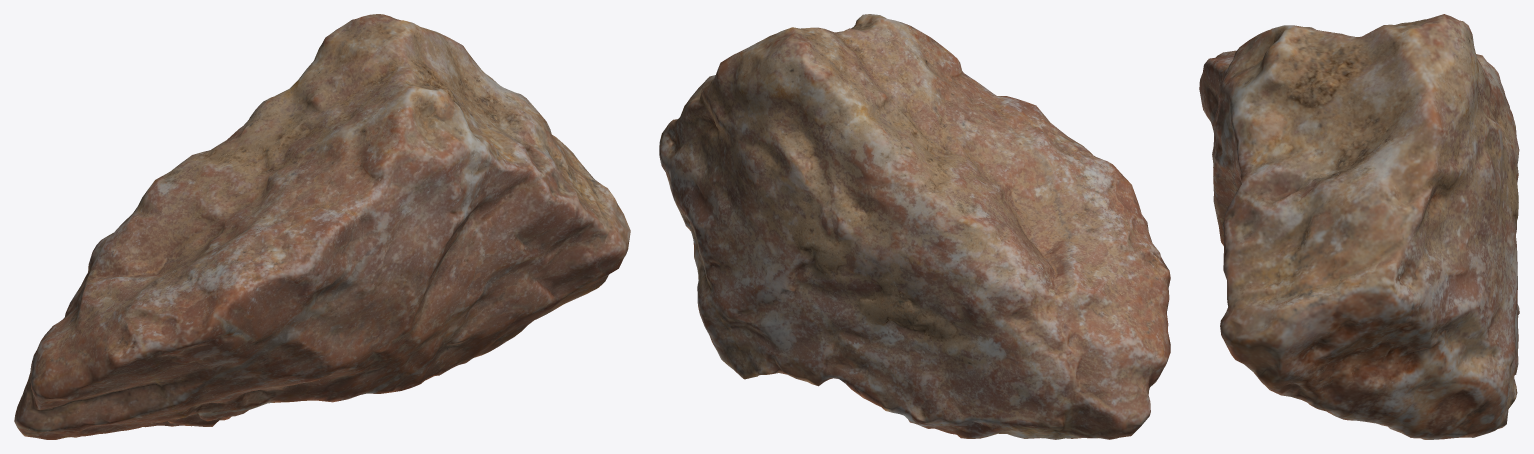
Rendered from sasso14.obj.
3 views of the same model, side by side, from view 1: azimuth 30°, elevation 25°; view 2: azimuth 150°, elevation 25°; view 3: azimuth 270°, elevation 25° (orthographic). The views are drawn at different scales.
Size of the model in its own units: 1.07 by 0.6798 by 0.4812.
Materials: 1 (1 with a texture image).
